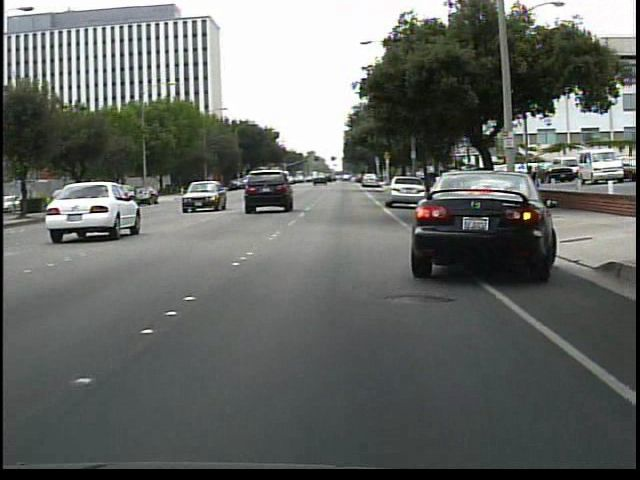person: (523, 162, 543, 210), (504, 164, 524, 209)
